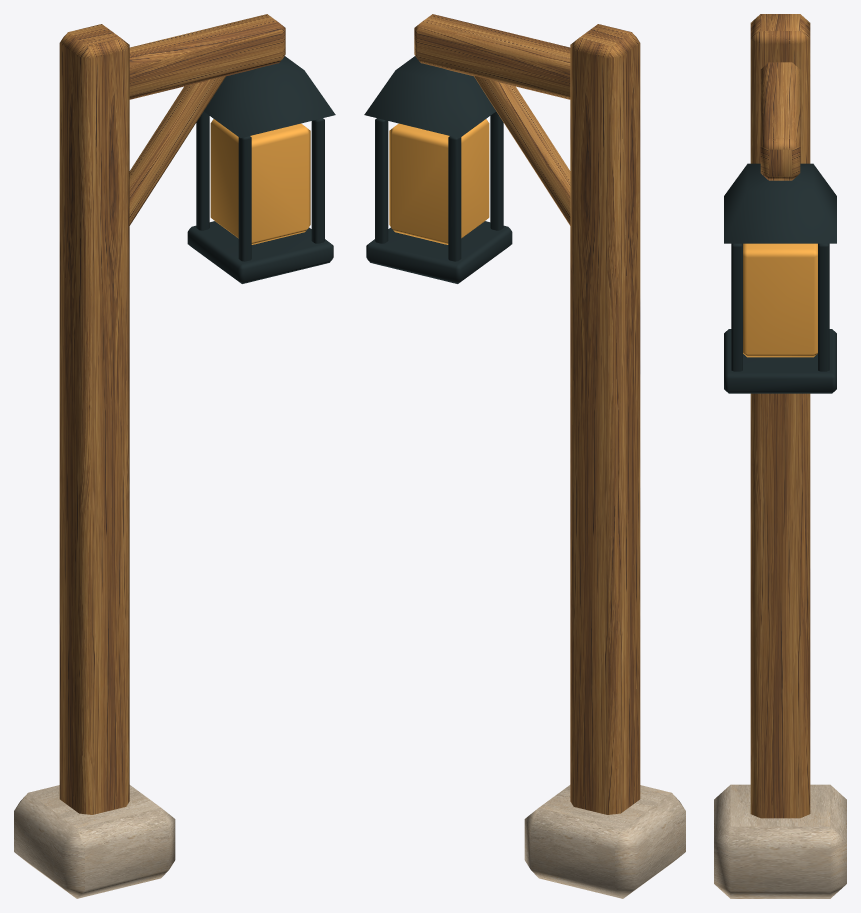
The model's file is 07_Farola.obj.
The picture shows the model from 3 angles, left to right: view 1: azimuth 30°, elevation 25°; view 2: azimuth 150°, elevation 25°; view 3: azimuth 270°, elevation 25°; orthographic projection. The views are drawn at different scales.
Parts seen in each view (by area): view 1: 07_Farola_Wood, 07_Farola_Iron, 07_Farola_Stone, 07_Farola_Glow; view 2: 07_Farola_Wood, 07_Farola_Iron, 07_Farola_Stone, 07_Farola_Glow; view 3: 07_Farola_Wood, 07_Farola_Iron, 07_Farola_Stone, 07_Farola_Glow.
Boxes of the visible parts, x1,y1,x2,y2 form: 07_Farola_Wood: [59, 14, 285, 814]; 07_Farola_Iron: [187, 56, 335, 283]; 07_Farola_Stone: [14, 785, 175, 898]; 07_Farola_Glow: [210, 119, 310, 244]; 07_Farola_Wood: [414, 14, 640, 814]; 07_Farola_Iron: [364, 56, 512, 283]; 07_Farola_Stone: [524, 785, 685, 898]; 07_Farola_Glow: [389, 119, 489, 244]; 07_Farola_Wood: [750, 14, 810, 818]; 07_Farola_Iron: [724, 163, 836, 393]; 07_Farola_Stone: [714, 784, 846, 898]; 07_Farola_Glow: [743, 243, 817, 357].
Bounding box in the file's own units: 0.96 × 2.84 × 0.4.
4 materials, 2 textured.
